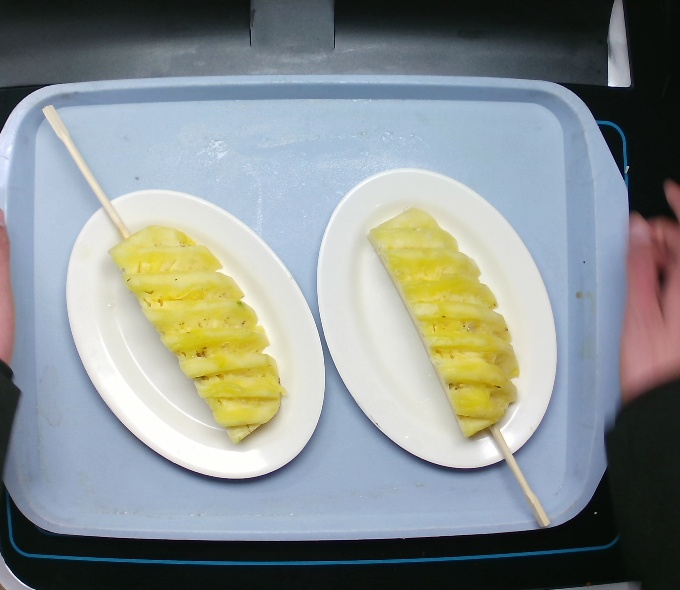wcq-BoLuo: (102, 213, 291, 447), (364, 200, 525, 445)
